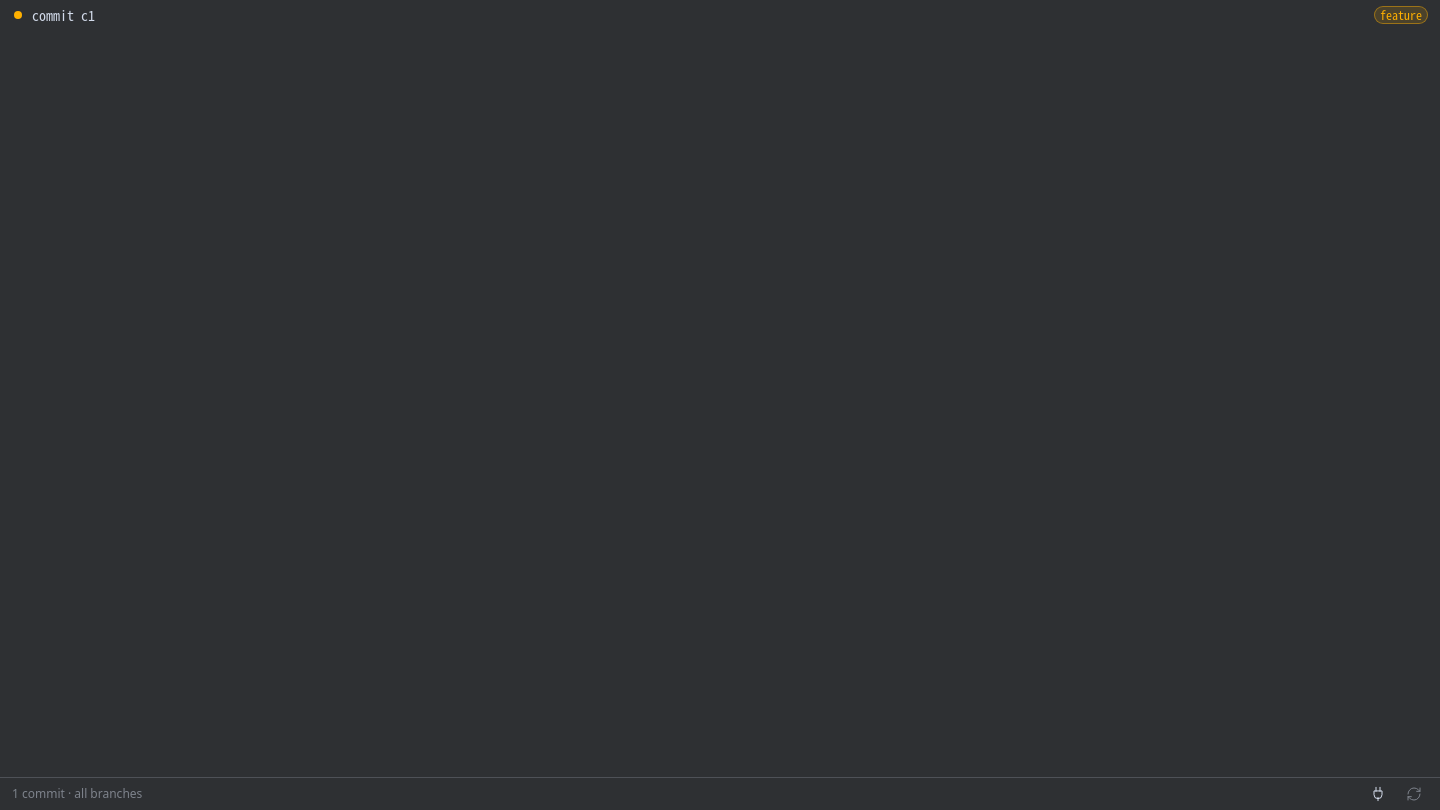
it: GitGraphPane SVG renderer (git graph renderer) › surfaces branch switch failures in the graph pane
The width and height of the screenshot is (1440, 810).
Click the button "feature": [1401, 15] box [1374,6,1428,24]
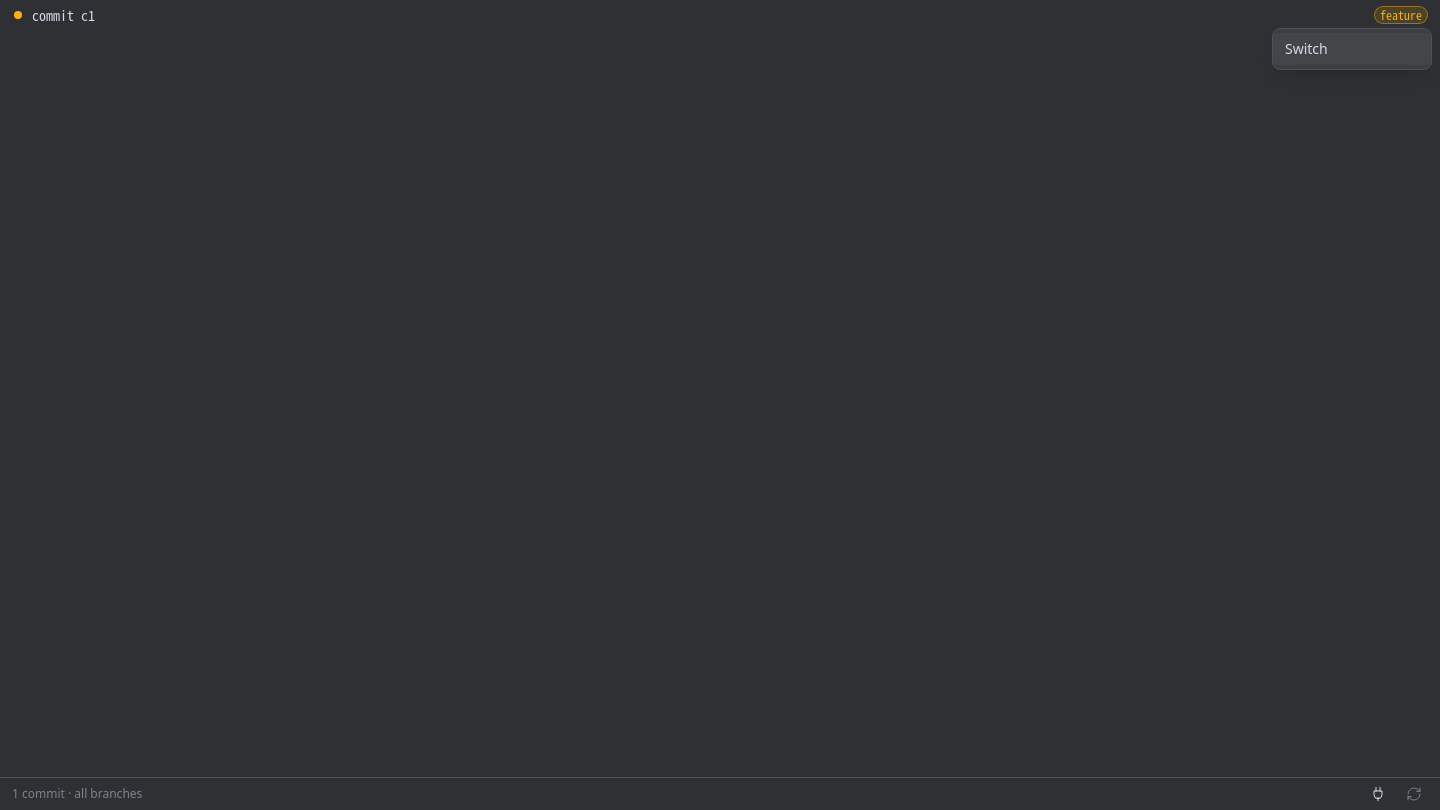
Click the menu item "Switch": [1352, 49] box [1273,33,1431,65]
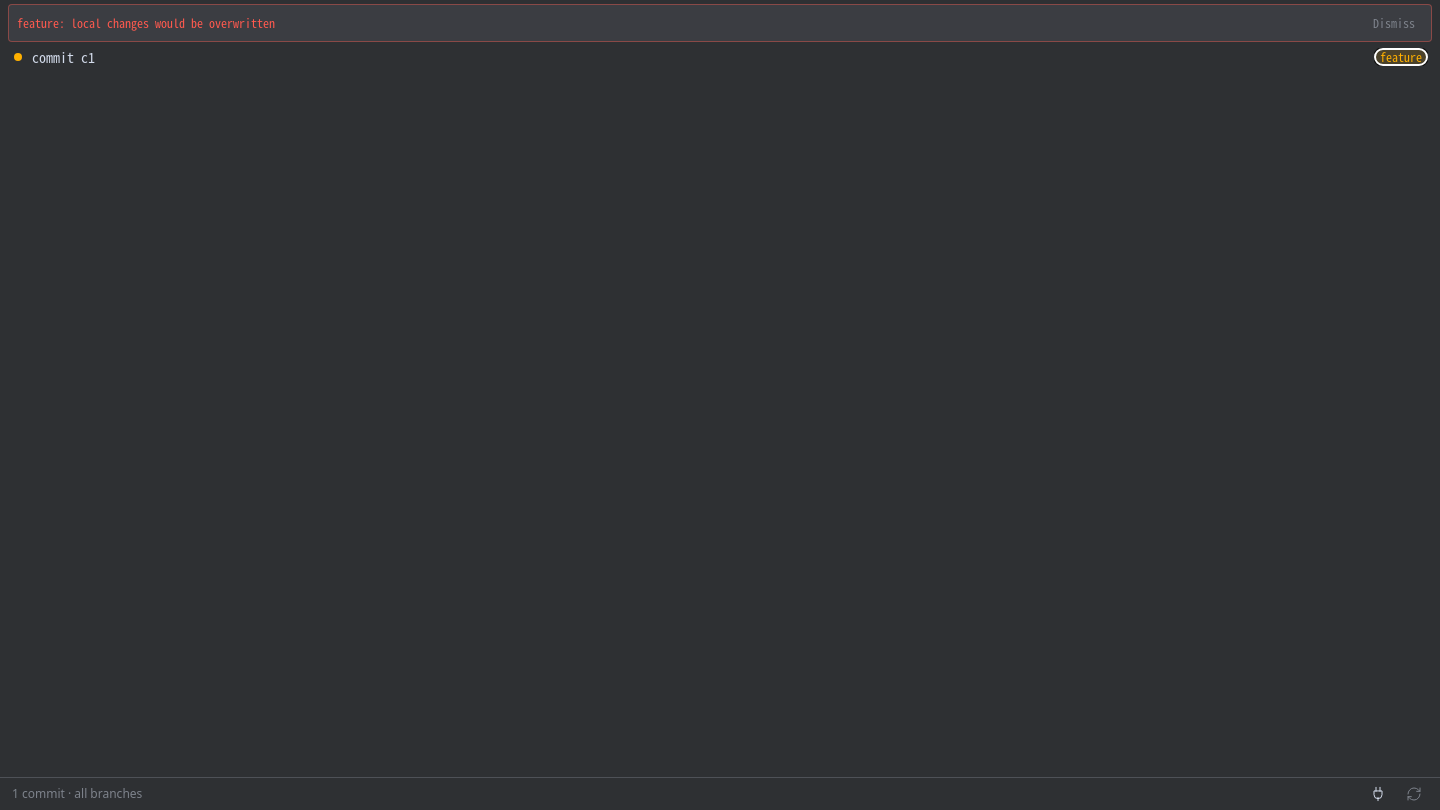
Expected: the 1st text "feature: local changes would be overwritten" is shown, [17,14,275,31]
